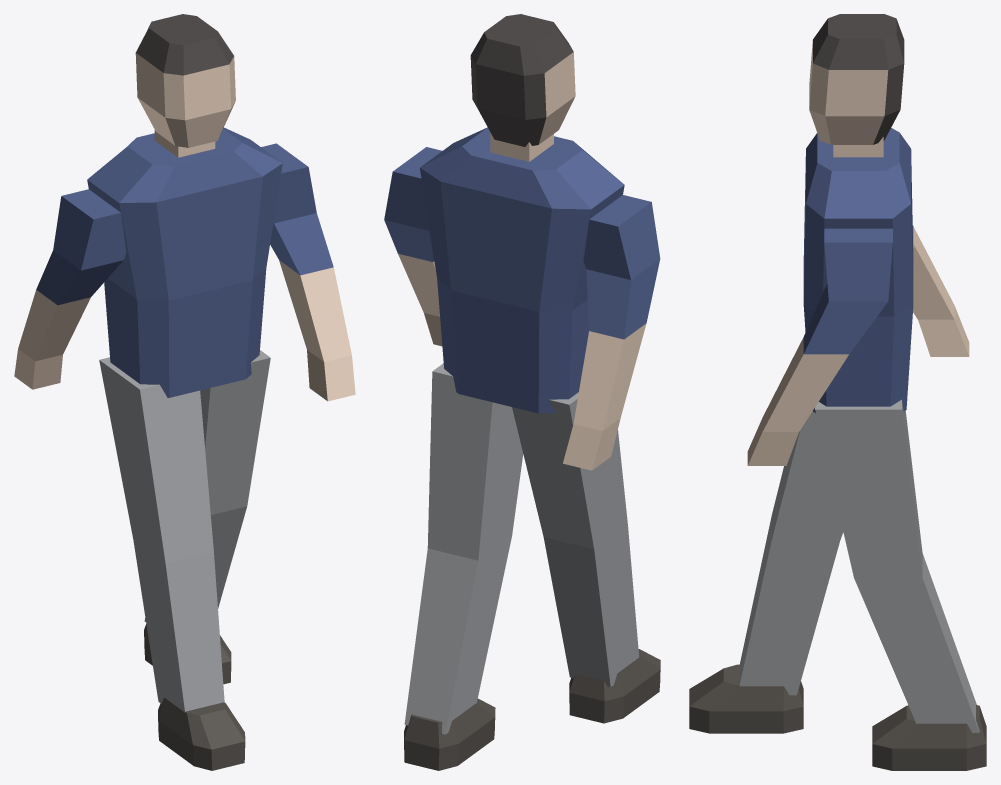
Rendered from pedestrian_0_right.fbx.
3 views of the same model, side by side, from view 1: azimuth 30°, elevation 25°; view 2: azimuth 150°, elevation 25°; view 3: azimuth 270°, elevation 25° (orthographic). The views are drawn at different scales.
Parts seen in each view (by area): view 1: pedestrian_0_right; view 2: pedestrian_0_right; view 3: pedestrian_0_right.
Part boxes in pixels (box(x1,y1,x2,y2)): pedestrian_0_right: box(14, 14, 355, 770); pedestrian_0_right: box(384, 14, 660, 770); pedestrian_0_right: box(689, 14, 986, 770).
Size of the model in its own units: 0.662 by 1.72 by 0.65.
